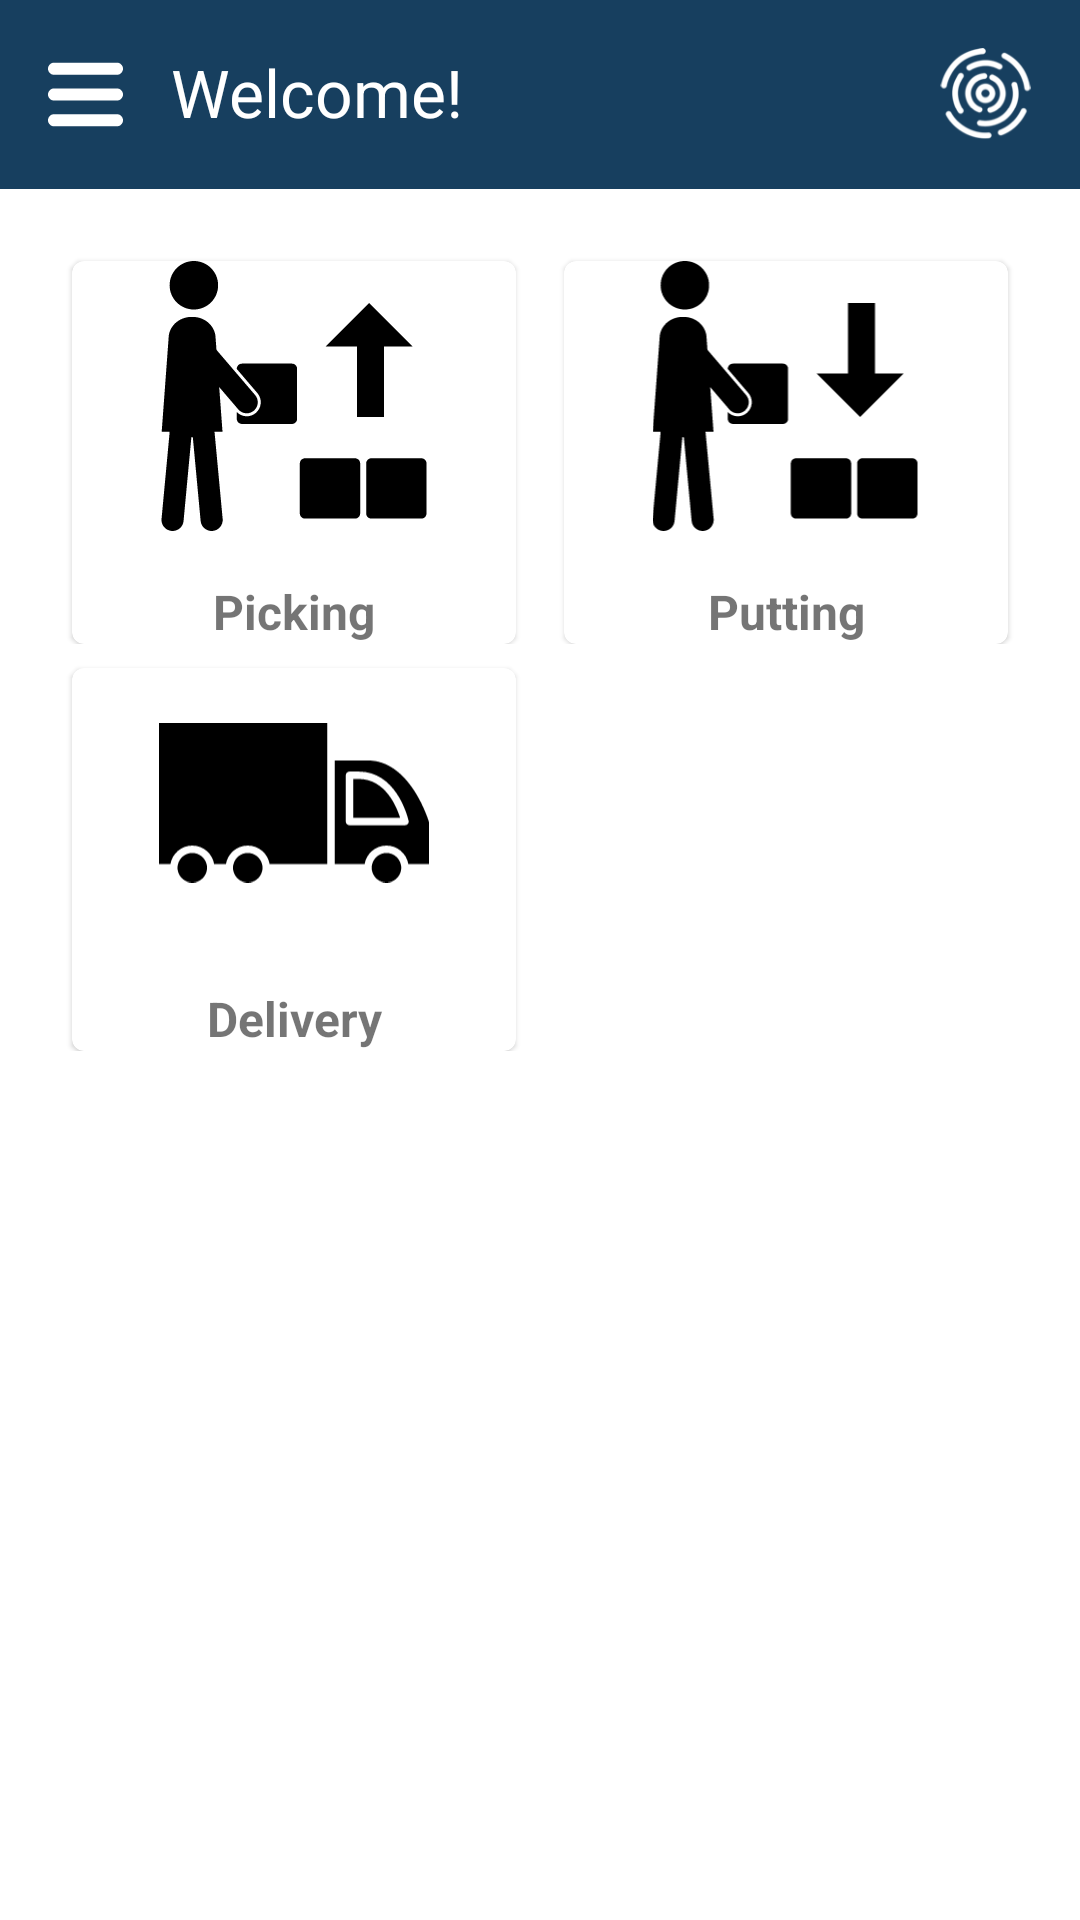

Point at icon controls on the screen. Image size 1080 x 1920, points as [x,y].
menu: [85,94]
